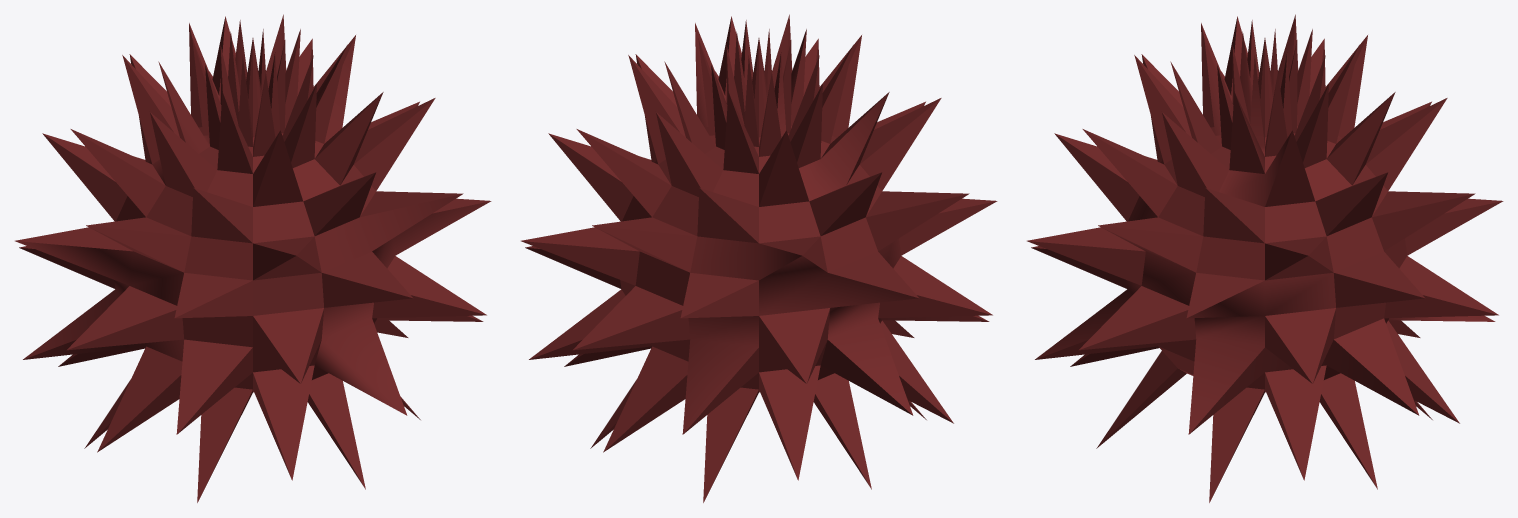
File: oursin_red.fbx
3 renders of one model, left to right at view 1: azimuth 30°, elevation 25°; view 2: azimuth 150°, elevation 25°; view 3: azimuth 270°, elevation 25°, orthographic.
Visible parts, largest first — view 1: pSphere1; view 2: pSphere1; view 3: pSphere1.
Part boxes in pixels (x1=…): pSphere1: x1=15, y1=14, x2=491, y2=502; pSphere1: x1=521, y1=14, x2=997, y2=502; pSphere1: x1=1027, y1=14, x2=1503, y2=502.
Bounding box in the file's own units: 3.42 × 3.09 × 3.36.
